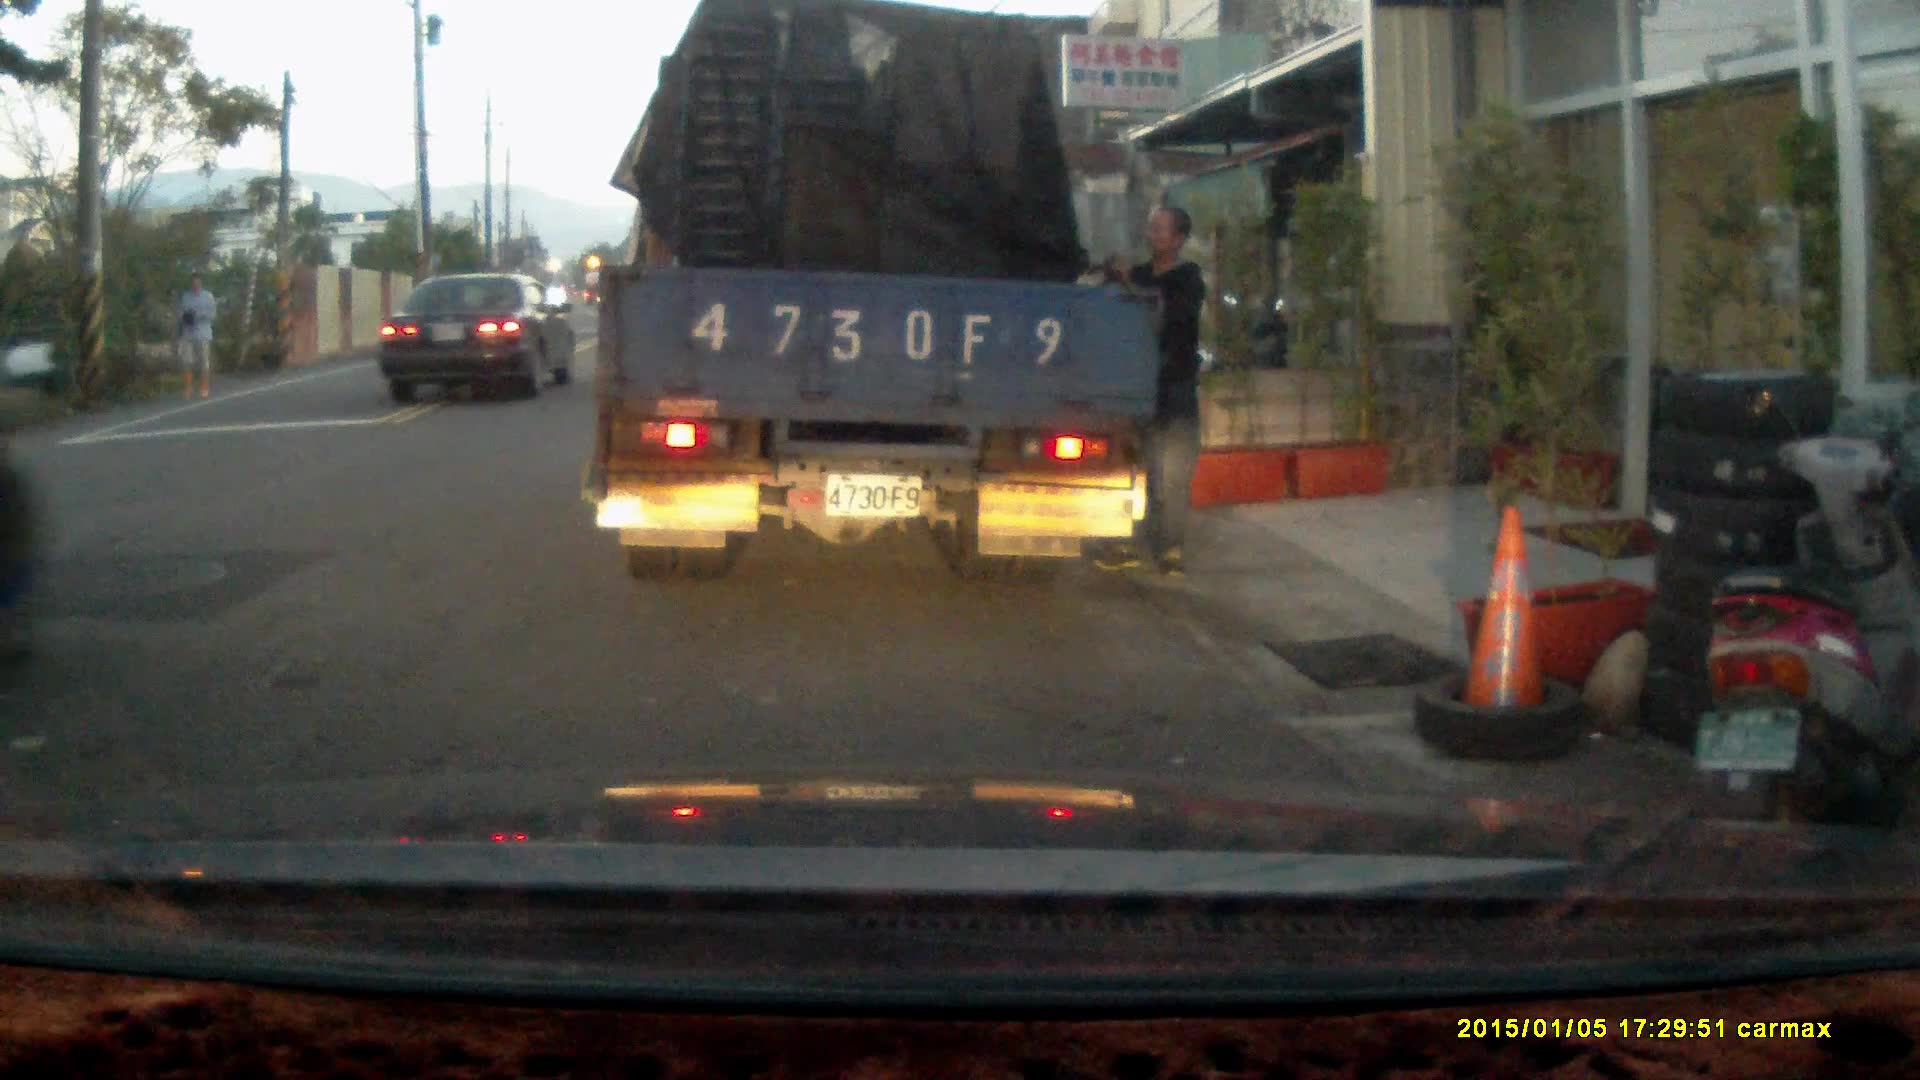pedestrian: (1083, 206, 1208, 580), (172, 273, 218, 404)
vehicle: (597, 23, 1162, 572), (384, 270, 579, 408)
